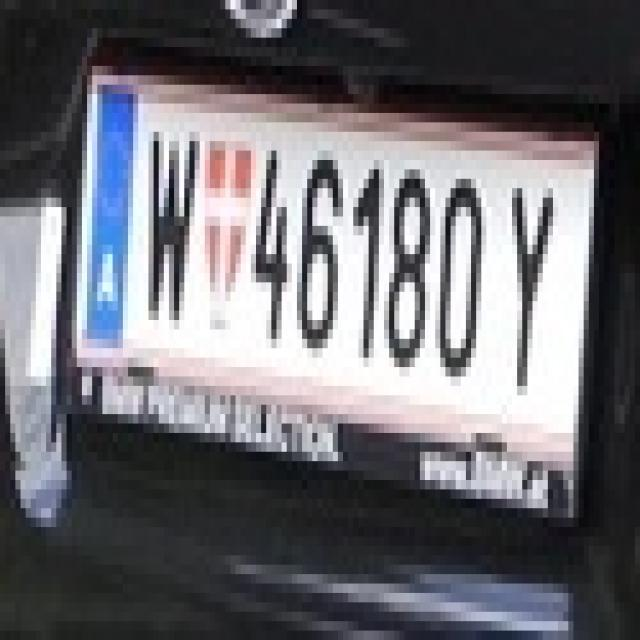licenseplate: (73, 46, 606, 544)
